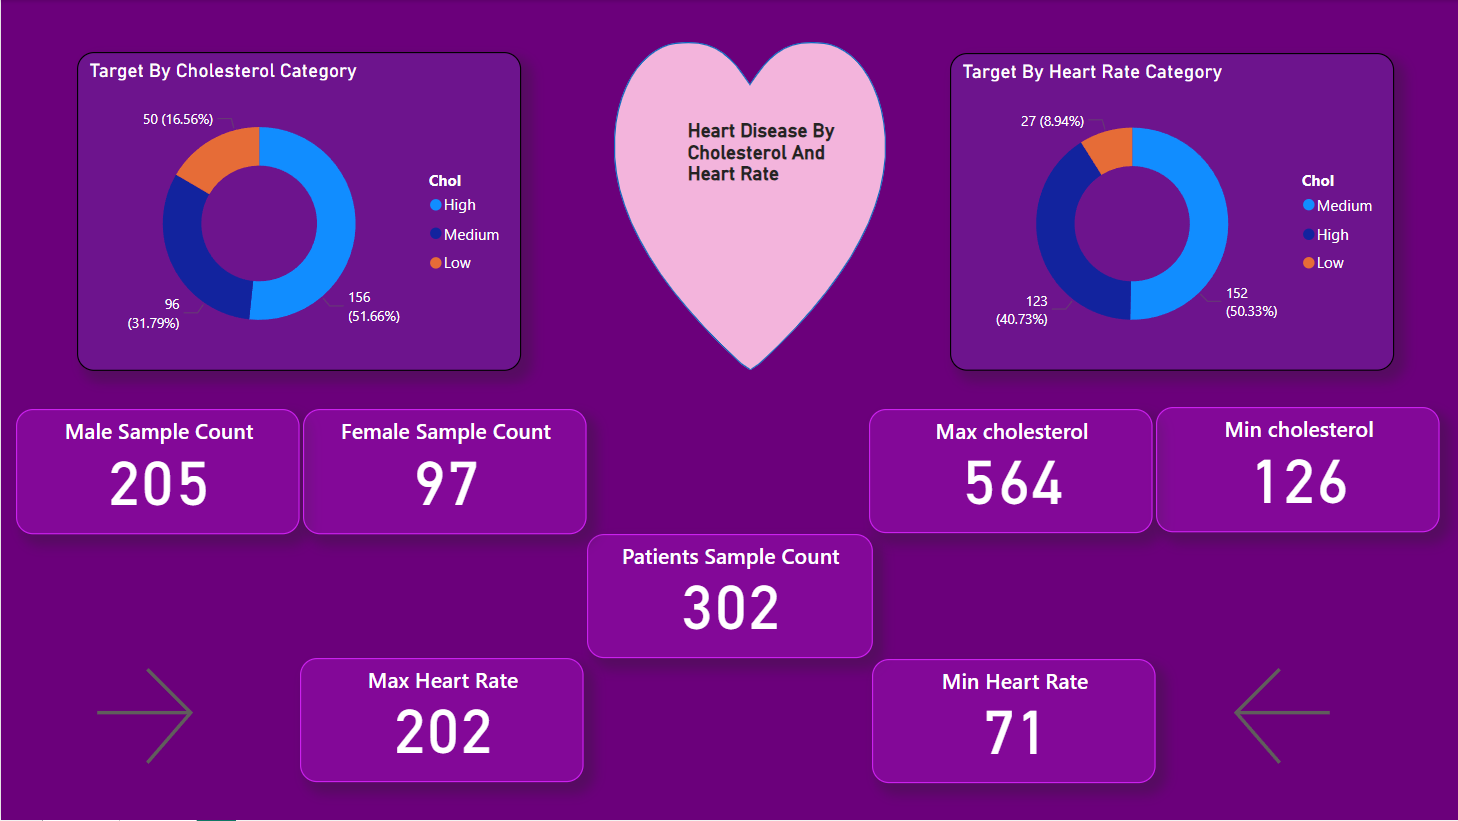

What the dashboard file says about the page in this screenshot:
{"tool":"powerbi","page":{"name":"Page 2","canvas":[1280,720],"ordinal":1},"visuals":[{"type":"card","title":"Male Sample Count","fields":{"Values":["Worksheet.Count of sex for 1"]},"box":[13.4,359.1,249.2,109.9],"z":1000},{"type":"card","title":"Patients Sample Count","fields":{"Values":["CountNonNull(Worksheet.sex)"]},"box":[514.6,469,250.6,108.5],"z":2000},{"type":"card","title":"Female Sample Count","fields":{"Values":["Worksheet.Count of sex for 0"]},"box":[265.3,359.1,249.2,109.9],"z":3000},{"type":"card","title":"Max cholesterol","fields":{"Values":["Measure.Max Cholesterol"]},"box":[762.5,359.1,249.2,108.5],"z":4000},{"type":"card","title":"Min cholesterol","fields":{"Values":["Measure.Min cholesteror"]},"box":[1014.4,357.8,249.2,109.9],"z":5000},{"type":"donutChart","title":"Target By Cholesterol Category","fields":{"Y":["CountNonNull(Worksheet.target)"],"Category":["Worksheet.Cholesterol Category"]},"box":[67,45.6,390,280.1],"z":6000},{"type":"donutChart","title":"Target By Heart Rate Category","fields":{"Y":["CountNonNull(Worksheet.target)"],"Category":["Worksheet.Heart Rate Category"]},"box":[833.5,46.9,390,278.7],"z":7000},{"type":"card","title":"Min Heart Rate","fields":{"Values":["Measure.Min Heart Rate"]},"box":[765.2,578.9,249.2,108.5],"z":8000},{"type":"card","title":"Max Heart Rate","fields":{"Values":["Measure.Max Heart Rate"]},"box":[262.7,577.6,249.2,108.5],"z":9000},{"type":"actionButton","box":[75,577.6,124.6,101.8],"z":12000},{"type":"actionButton","box":[1074.7,577.6,124.6,101.8],"z":13000},{"type":"shape","title":"Target By Cholesterol And Heart Rate","box":[538.2,37.3,238.6,288.4],"z":14000},{"type":"textbox","title":"Heart Disease     By Cholesterol And Heart Rate","box":[597.9,104.4,144.2,124.3],"z":15000}]}

Visuals, with their boxes in screenshot pixels (x1, y1, x2, y2), scaled from the page's 1280x720 canvas onto the 1458x821 screenshot:
"Male Sample Count" card: {"left": 15, "top": 409, "right": 299, "bottom": 535}
"Patients Sample Count" card: {"left": 586, "top": 535, "right": 872, "bottom": 659}
"Female Sample Count" card: {"left": 302, "top": 409, "right": 586, "bottom": 535}
"Max cholesterol" card: {"left": 869, "top": 409, "right": 1152, "bottom": 533}
"Min cholesterol" card: {"left": 1155, "top": 408, "right": 1439, "bottom": 533}
"Target By Cholesterol Category" donutChart: {"left": 76, "top": 52, "right": 521, "bottom": 371}
"Target By Heart Rate Category" donutChart: {"left": 949, "top": 53, "right": 1394, "bottom": 371}
"Min Heart Rate" card: {"left": 872, "top": 660, "right": 1155, "bottom": 784}
"Max Heart Rate" card: {"left": 299, "top": 659, "right": 583, "bottom": 782}
actionButton: {"left": 85, "top": 659, "right": 227, "bottom": 775}
actionButton: {"left": 1224, "top": 659, "right": 1366, "bottom": 775}
"Target By Cholesterol And Heart Rate" shape: {"left": 613, "top": 43, "right": 885, "bottom": 371}
"Heart Disease     By Cholesterol And Heart Rate" textbox: {"left": 681, "top": 119, "right": 845, "bottom": 261}
